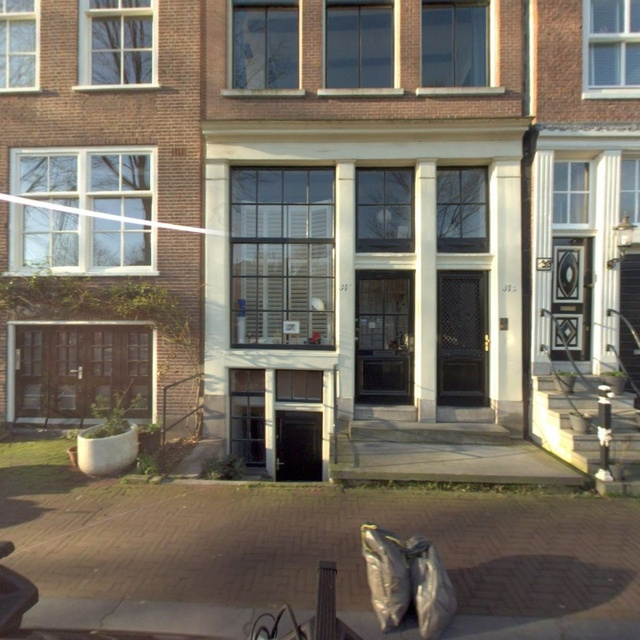Garbage Bags: (364, 524, 455, 634)
